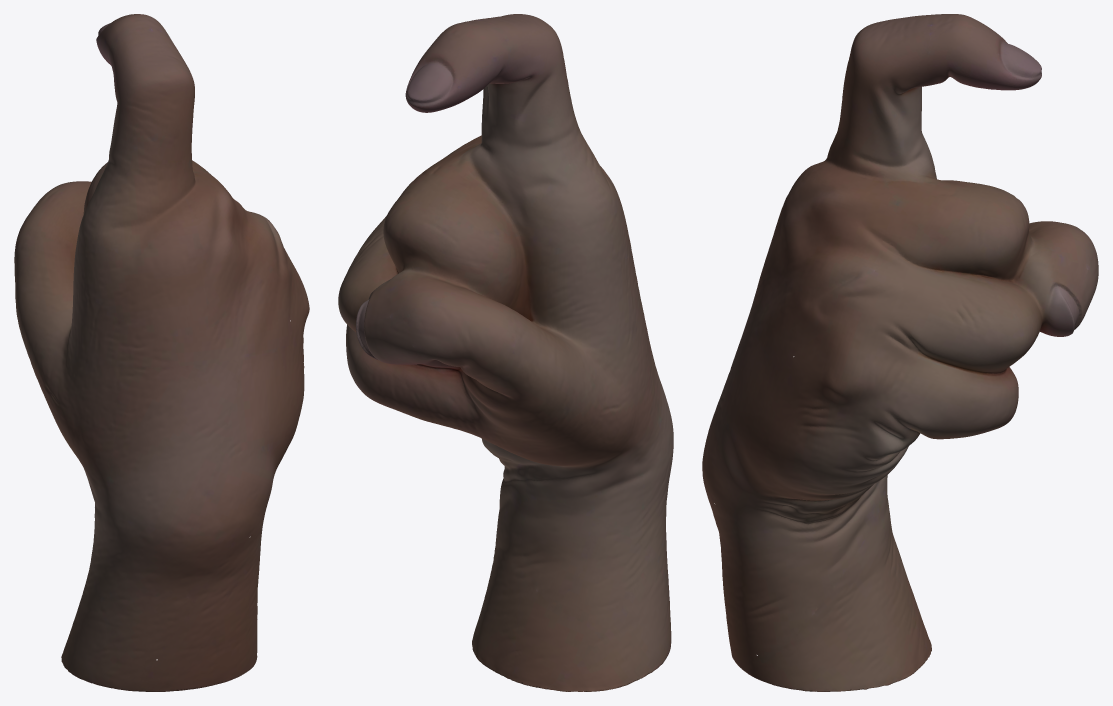
3 renders of one model, left to right at view 1: azimuth 30°, elevation 25°; view 2: azimuth 150°, elevation 25°; view 3: azimuth 270°, elevation 25°, orthographic. The views are drawn at different scales.
Parts seen in each view (by area): view 1: tripo_node_d7faa649-720b-405b-ab3e-09ab42db428d; view 2: tripo_node_d7faa649-720b-405b-ab3e-09ab42db428d; view 3: tripo_node_d7faa649-720b-405b-ab3e-09ab42db428d.
Part boxes in pixels (x1,y1,x2,y2): tripo_node_d7faa649-720b-405b-ab3e-09ab42db428d: (14,14,309,691); tripo_node_d7faa649-720b-405b-ab3e-09ab42db428d: (338,14,673,691); tripo_node_d7faa649-720b-405b-ab3e-09ab42db428d: (702,14,1098,691).
Bounding box in the file's own units: 0.4202 × 0.9972 × 0.549.
1 material, 1 textured.
